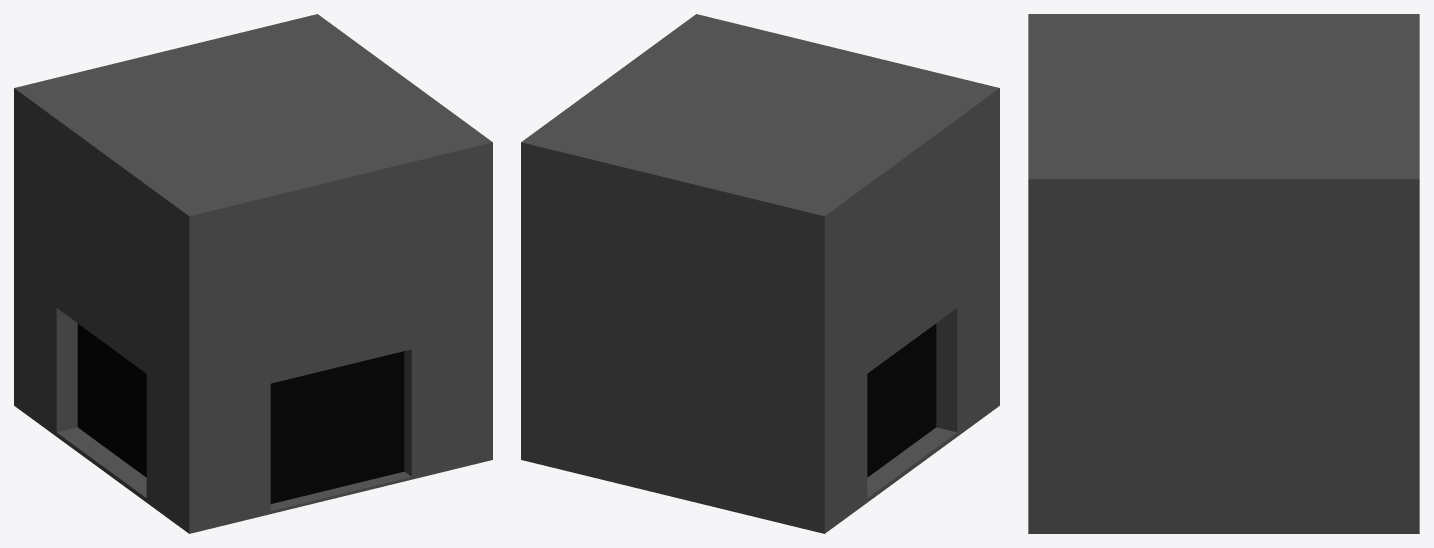
Rendered from petitBasCote.fbx.
3 views of the same model, side by side, from view 1: azimuth 30°, elevation 25°; view 2: azimuth 150°, elevation 25°; view 3: azimuth 270°, elevation 25° (orthographic). The views are drawn at different scales.
Parts seen in each view (by area): view 1: Cube.131; view 2: Cube.131; view 3: Cube.131.
Boxes of the visible parts, x1,y1,x2,y2 form: Cube.131: (14,14,492,533); Cube.131: (521,14,999,533); Cube.131: (1028,14,1419,533).
Bounding box in the file's own units: 2000 × 2000 × 2000.
